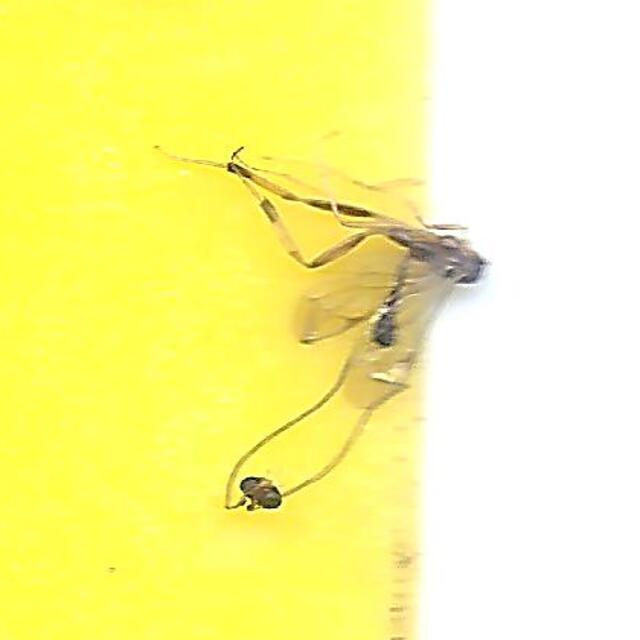Brachycera: (152, 129, 488, 511)
